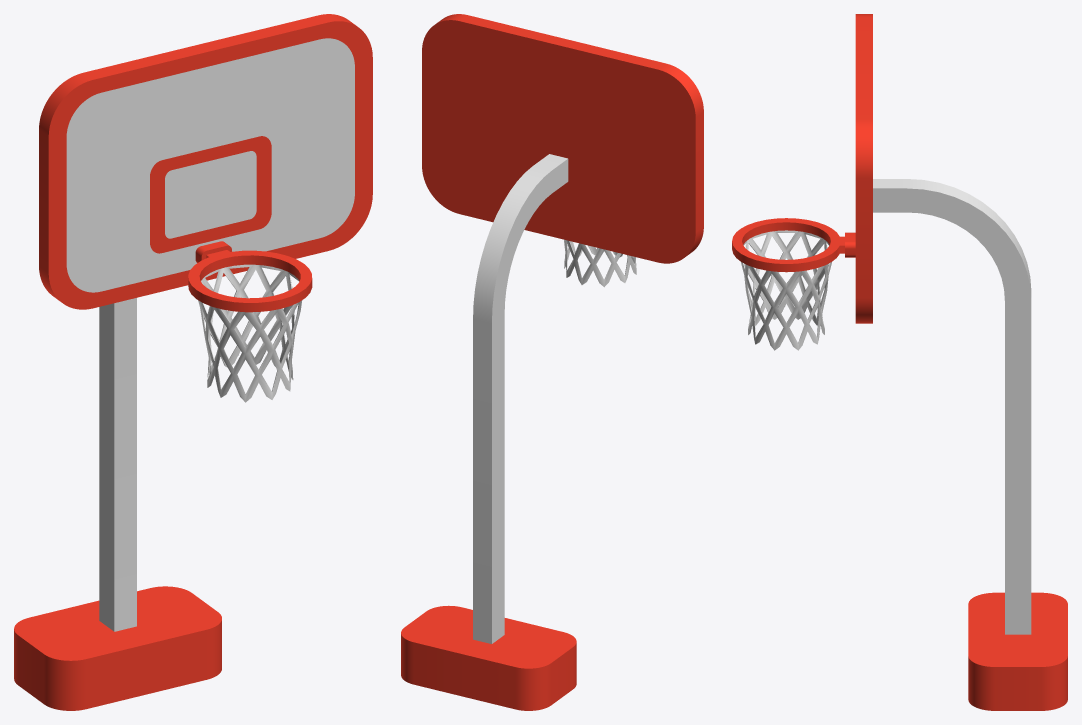
Rendered from Baketball Hoop Red.fbx.
3 views of the same model, side by side, from view 1: azimuth 30°, elevation 25°; view 2: azimuth 150°, elevation 25°; view 3: azimuth 270°, elevation 25° (orthographic). The views are drawn at different scales.
Visible parts, largest first — view 1: Basketball Hoop Stand Red, Basketball Lattice Red, Basketball Hoop Red; view 2: Basketball Hoop Stand Red, Basketball Lattice Red; view 3: Basketball Hoop Stand Red, Basketball Lattice Red, Basketball Hoop Red.
Part boxes in pixels (left/top/right/bottom): Basketball Hoop Stand Red: left=14, top=14, right=372, bottom=710; Basketball Lattice Red: left=198, top=264, right=302, bottom=402; Basketball Hoop Red: left=188, top=241, right=312, bottom=312; Basketball Hoop Stand Red: left=401, top=14, right=703, bottom=710; Basketball Lattice Red: left=564, top=239, right=636, bottom=287; Basketball Hoop Stand Red: left=855, top=14, right=1067, bottom=710; Basketball Lattice Red: left=741, top=230, right=831, bottom=350; Basketball Hoop Red: left=732, top=218, right=855, bottom=272.
Bounding box in the file's own units: 292 × 595 × 299.
